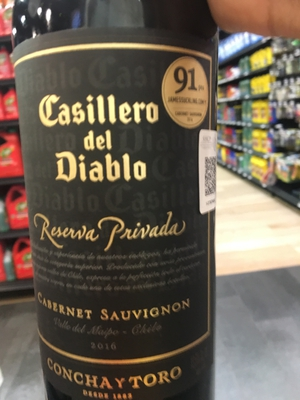casillero del diablo reserva privada cabernet sauvignon: (12, 10, 239, 398)
